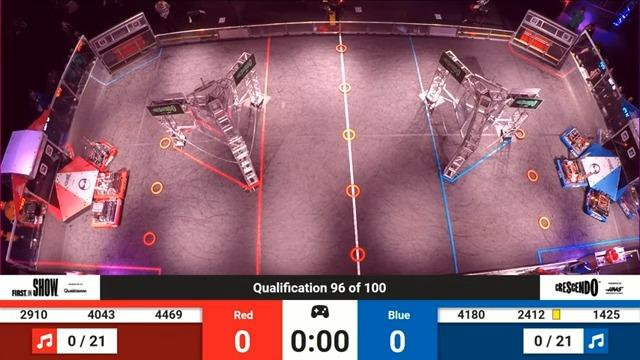robot: (85, 193, 131, 233), (549, 154, 597, 189), (87, 167, 137, 198), (75, 133, 117, 169), (556, 122, 594, 156), (582, 190, 621, 221)
